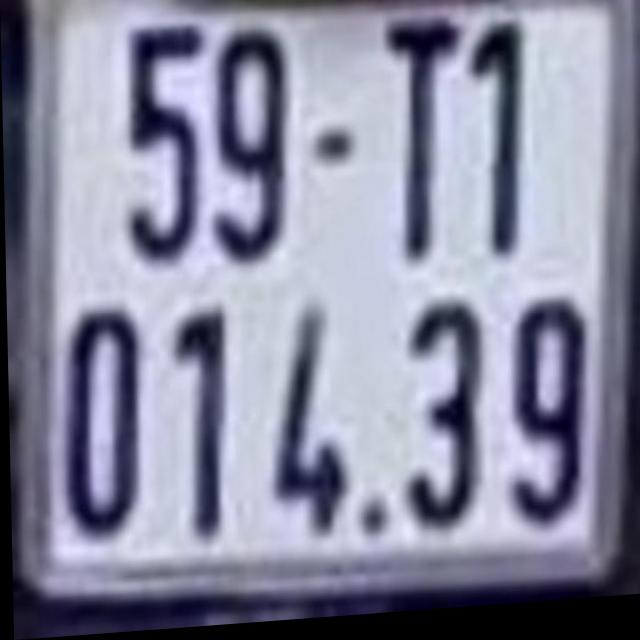0: (60, 308, 144, 537)
1: (169, 307, 239, 542), (468, 25, 533, 267)
3: (400, 302, 494, 545)
4: (267, 303, 346, 537)
5: (124, 20, 202, 260)
9: (214, 28, 288, 264), (509, 307, 582, 544)
T: (382, 17, 464, 273)
